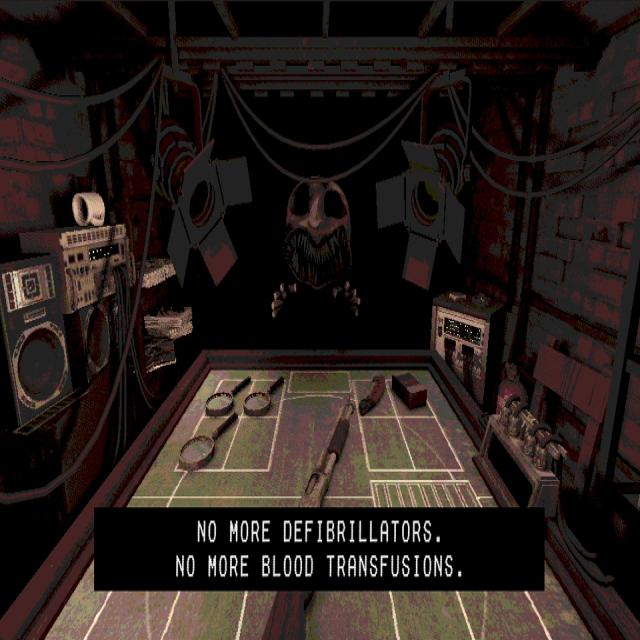ally: (39, 486, 605, 639)
cigar: (391, 373, 427, 408)
doubledamage: (358, 375, 385, 415)
emptyspace: (400, 417, 460, 471), (361, 416, 414, 472), (223, 415, 276, 468)
enemyspace: (142, 366, 486, 484)
gun: (303, 400, 347, 504)
lens: (179, 418, 233, 468), (243, 374, 285, 415), (206, 379, 253, 415)
